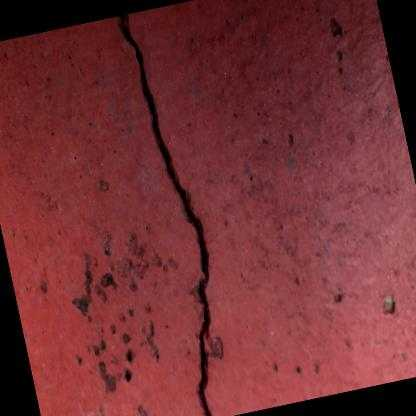crack: (115, 14, 223, 416)
